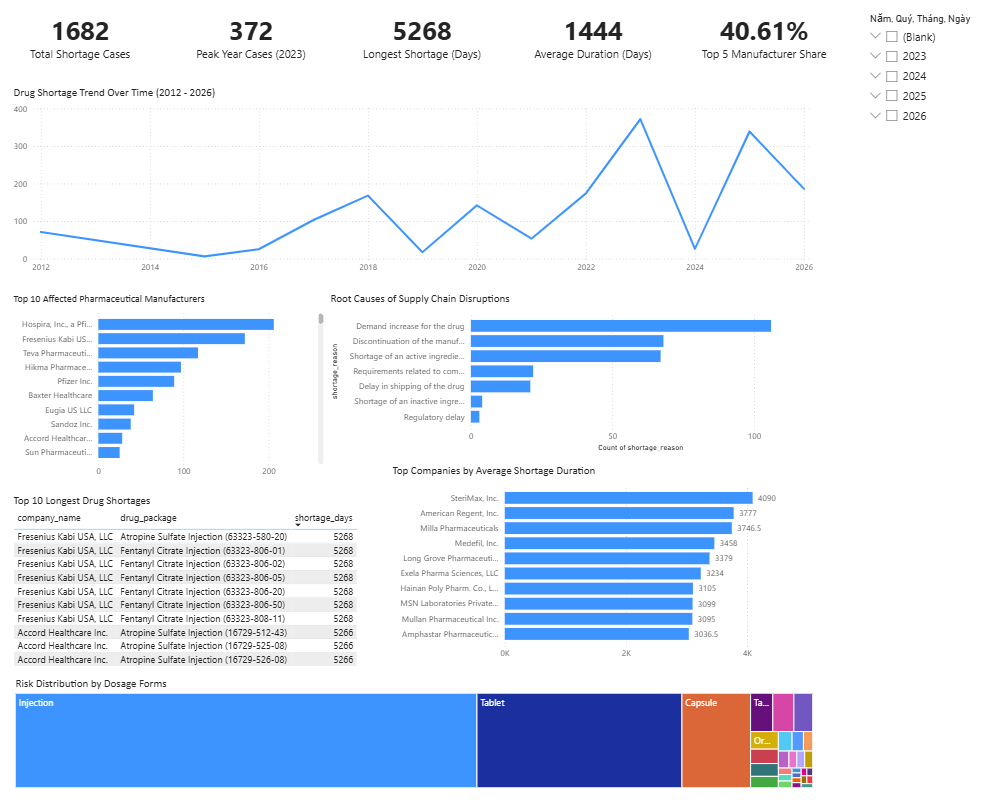

The dashboard page shown, as its layout file describes it:
{"tool":"powerbi","page":{"name":"Trang 1","canvas":[1500,1200],"ordinal":0},"visuals":[{"type":"lineChart","title":"Drug Shortage Trend Over Time (2012 - 2026)","fields":{"Category":["drug_shortages_clean.initial_posting_date.Biến động.Phân cấp ngày tháng.Năm","drug_shortages_clean.initial_posting_date.Biến động.Phân cấp ngày tháng.Quý","drug_shortages_clean.initial_posting_date.Biến động.Phân cấp ngày tháng.Tháng","drug_shortages_clean.initial_posting_date.Biến động.Phân cấp ngày tháng.Ngày"],"Y":["CountNonNull(drug_shortages_clean.initial_posting_date)"]},"box":[51.5,142.2,1177,282],"z":0},{"type":"clusteredBarChart","title":"Top 10 Affected Pharmaceutical Manufacturers","fields":{"Category":["drug_shortages_clean.company_name"],"Y":["CountNonNull(drug_shortages_clean.company_name)"]},"box":[51.1,442.3,462.8,280.3],"z":1000},{"type":"clusteredBarChart","title":"Root Causes of Supply Chain Disruptions","fields":{"Category":["drug_shortages_clean.shortage_reason"],"Y":["CountNonNull(drug_shortages_clean.shortage_reason)"]},"box":[513.9,442.3,721.2,238],"z":2000},{"type":"treemap","title":"Risk Distribution by Dosage Forms","fields":{"Values":["CountNonNull(drug_shortages_clean.dosage_form)"],"Group":["drug_shortages_clean.dosage_form"]},"box":[54,1004.4,1173.7,166.4],"z":3000},{"type":"textbox","box":[54.3,29.8,198.8,92.8],"z":4000},{"type":"textbox","box":[303.9,29.4,198.6,93.2],"z":5000},{"type":"textbox","box":[553.2,29.4,198.6,93.2],"z":6000},{"type":"textbox","box":[802.6,29.4,198.6,93.2],"z":7000},{"type":"textbox","box":[1052,29.8,198.8,92.8],"z":8000},{"type":"clusteredBarChart","title":"Top Companies by Average Shortage Duration","fields":{"Category":["avg_duration_company csv.company_name"],"Y":["avg_duration_company csv.Corrected_Avg_Duration"]},"box":[604.4,693.4,623.4,294.9],"z":10000},{"type":"tableEx","title":"Top 10 Longest Drug Shortages","fields":{"Values":["top10_longest_fixed.company_name","top10_longest_fixed.drug_package","top10_longest_fixed.shortage_days"]},"box":[51.1,737.2,531.4,267.2],"z":10001},{"type":"slicer","fields":{"Values":["drug_shortages_clean.update_date.Biến động.Phân cấp ngày tháng.Năm","drug_shortages_clean.update_date.Biến động.Phân cấp ngày tháng.Quý","drug_shortages_clean.update_date.Biến động.Phân cấp ngày tháng.Tháng","drug_shortages_clean.update_date.Biến động.Phân cấp ngày tháng.Ngày"]},"box":[1293.4,29.2,182.5,176.6],"z":10002}]}

Visuals, with their boxes in screenshot pixels (x1, y1, x2, y2), scaled from the page's 1500x1200 canvas onto the 985x800 screenshot:
"Drug Shortage Trend Over Time (2012 - 2026)" lineChart: BBox(34, 95, 807, 283)
"Top 10 Affected Pharmaceutical Manufacturers" clusteredBarChart: BBox(34, 295, 337, 482)
"Root Causes of Supply Chain Disruptions" clusteredBarChart: BBox(337, 295, 811, 454)
"Risk Distribution by Dosage Forms" treemap: BBox(35, 670, 806, 781)
textbox: BBox(36, 20, 166, 82)
textbox: BBox(200, 20, 330, 82)
textbox: BBox(363, 20, 494, 82)
textbox: BBox(527, 20, 657, 82)
textbox: BBox(691, 20, 821, 82)
"Top Companies by Average Shortage Duration" clusteredBarChart: BBox(397, 462, 806, 659)
"Top 10 Longest Drug Shortages" tableEx: BBox(34, 491, 383, 670)
slicer - drug_shortages_clean.update_date.Biến động.Phân cấp ngày tháng.Năm x drug_shortages_clean.update_date.Biến động.Phân cấp ngày tháng.Quý: BBox(849, 19, 969, 137)
